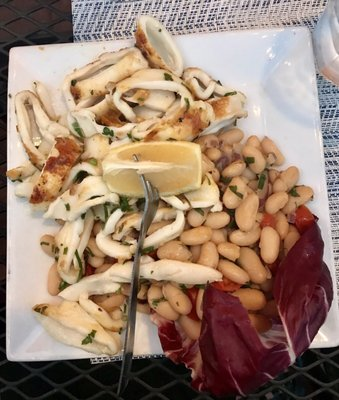curry: (4, 10, 336, 400)
